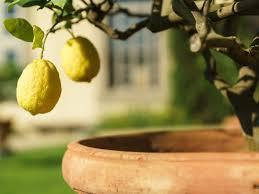lemon: (16, 58, 62, 117), (61, 36, 100, 83)
